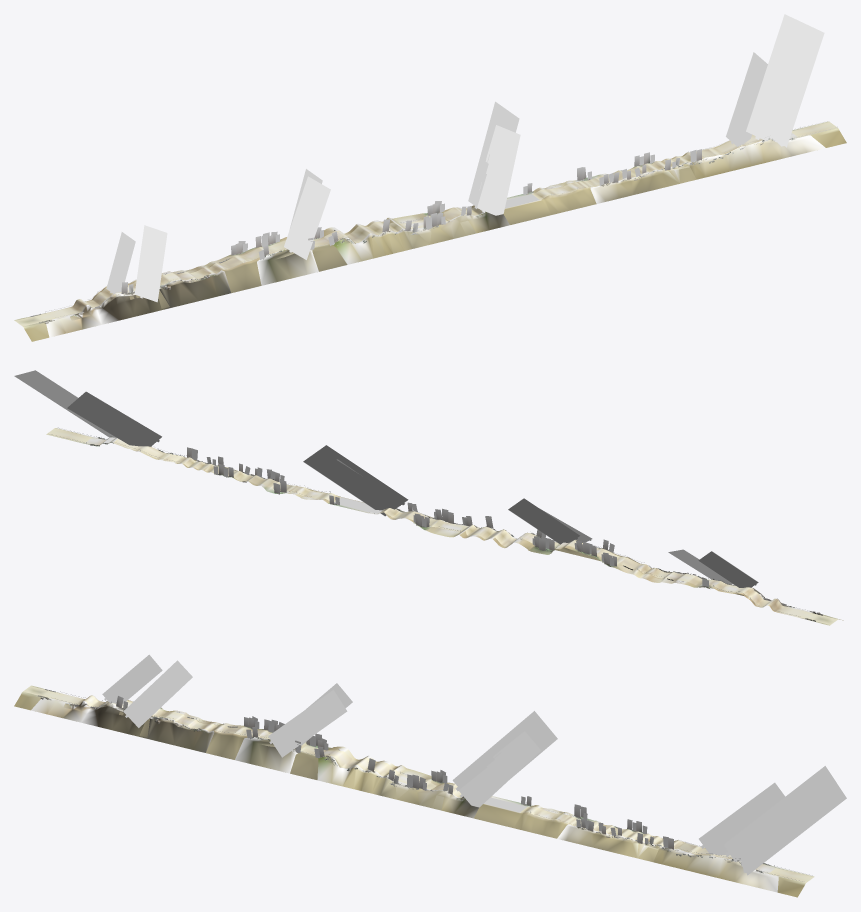
The model's file is Beach_01.fbx.
3 views of the same model, one above another, from view 1: azimuth 30°, elevation 25°; view 2: azimuth 150°, elevation 25°; view 3: azimuth 330°, elevation 25° (orthographic). The views are drawn at different scales.
Visible parts, largest first — view 1: Light_01, Mountain_01, Road_01, Ground_01, Tree_01; view 2: Light_01, Ground_01, Tree_01, Road_01; view 3: Light_01, Mountain_01, Road_01, Ground_01, Tree_01.
Part boxes in pixels (x1,y1,x2,y2): Light_01: (106, 14, 824, 302); Mountain_01: (45, 135, 825, 337); Road_01: (14, 121, 846, 341); Ground_01: (15, 122, 836, 326); Tree_01: (44, 138, 794, 323); Light_01: (14, 370, 758, 587); Ground_01: (47, 428, 837, 624); Tree_01: (89, 436, 820, 613); Road_01: (46, 428, 843, 625); Light_01: (102, 654, 846, 875); Mountain_01: (31, 697, 778, 892); Road_01: (14, 685, 814, 897); Ground_01: (23, 686, 813, 882); Tree_01: (40, 696, 771, 873).
Bounding box in the file's own units: 71422 × 8202 × 6802.
